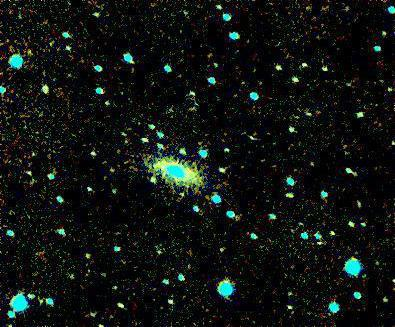star: (167, 180, 197, 210)
